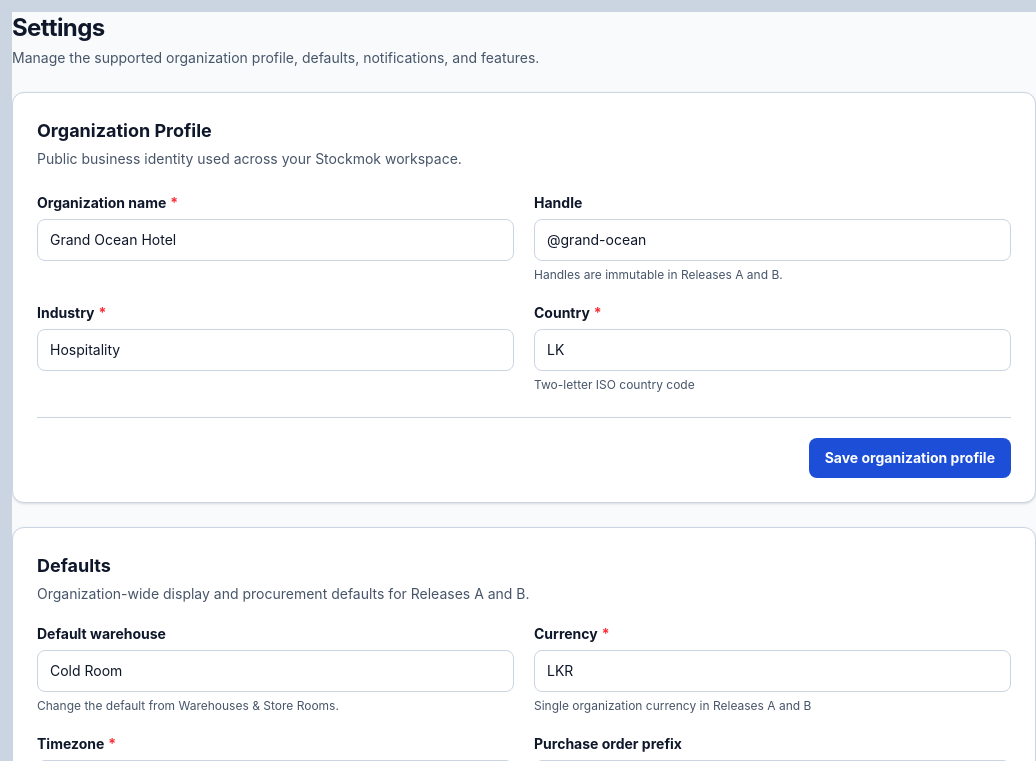
Test: SettingsScreen › retains valid profile input when C-02 fails
Step 1. Replace the text in the field labelled "Organization name*" with "Grand Ocean Resort" → (276, 240), box x1=37 y1=219 x2=514 y2=261
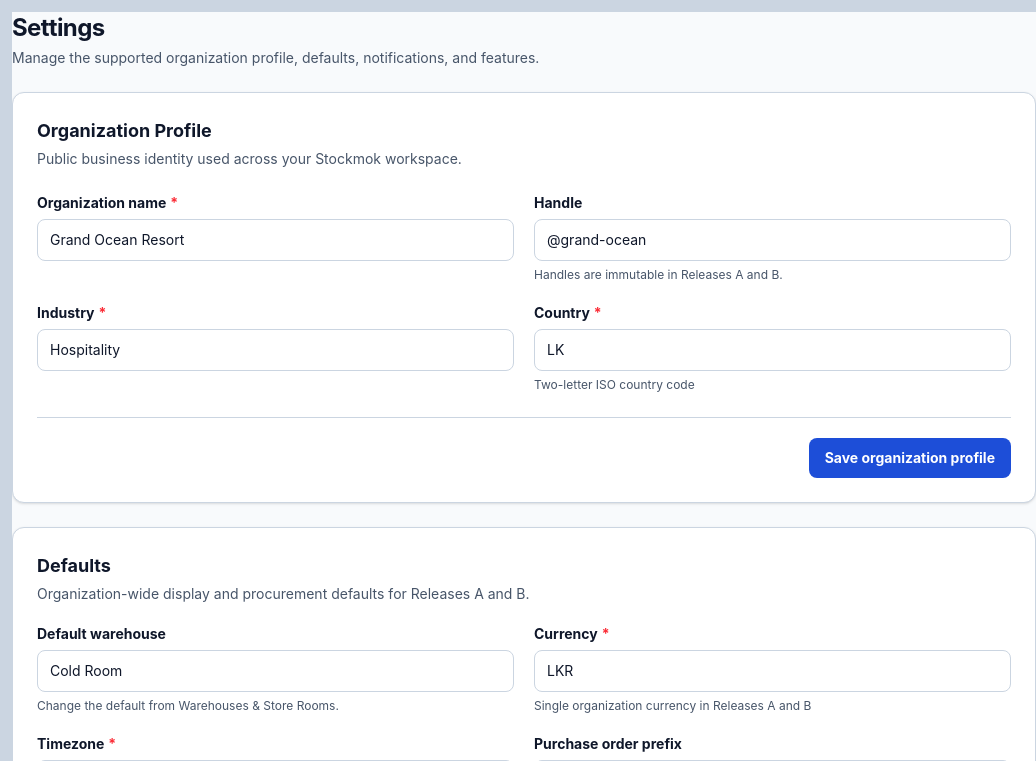
Step 2. Click the button "Save organization profile" → (910, 458), box x1=809 y1=438 x2=1011 y2=478
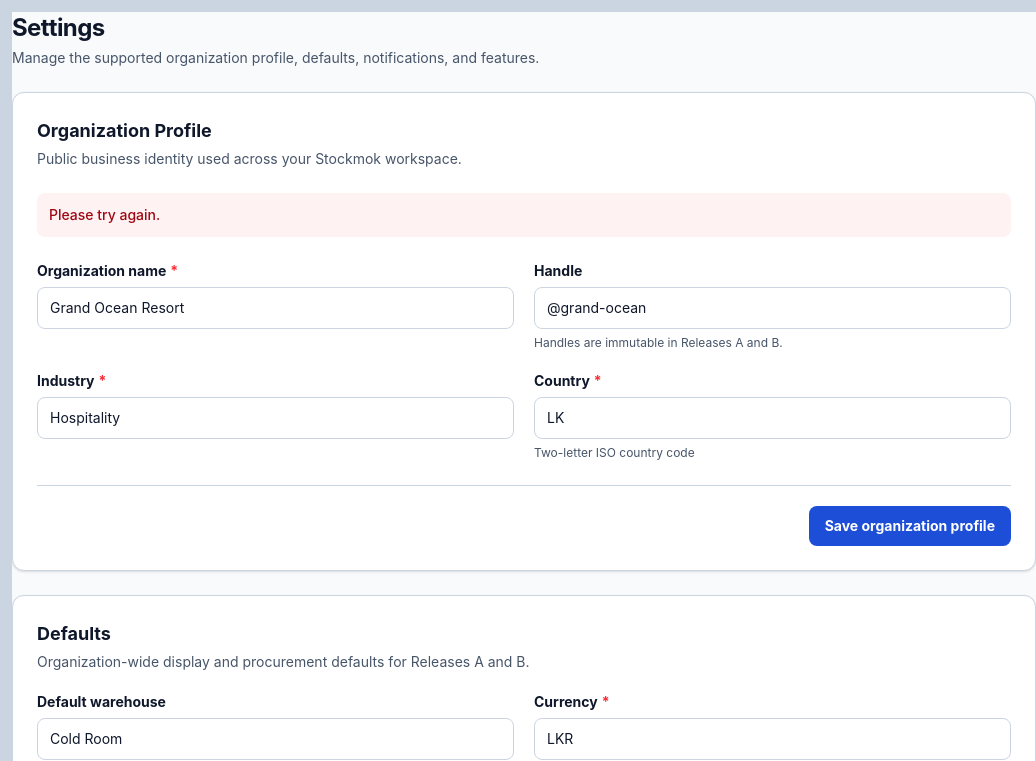
Now the text "Please try again." is shown, box x1=37 y1=193 x2=1011 y2=237
